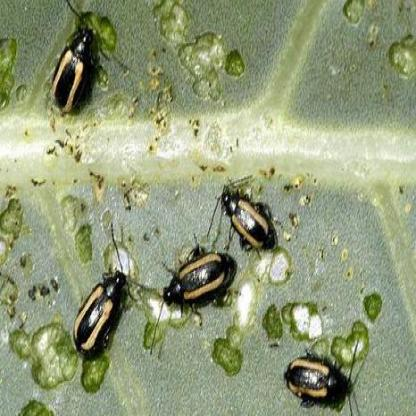beetle: (70, 242, 132, 366), (53, 11, 103, 121), (287, 343, 362, 413), (159, 248, 235, 315), (221, 176, 278, 263)
